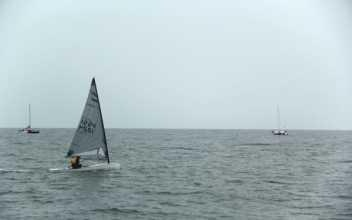fanchuan: (51, 73, 130, 175)
